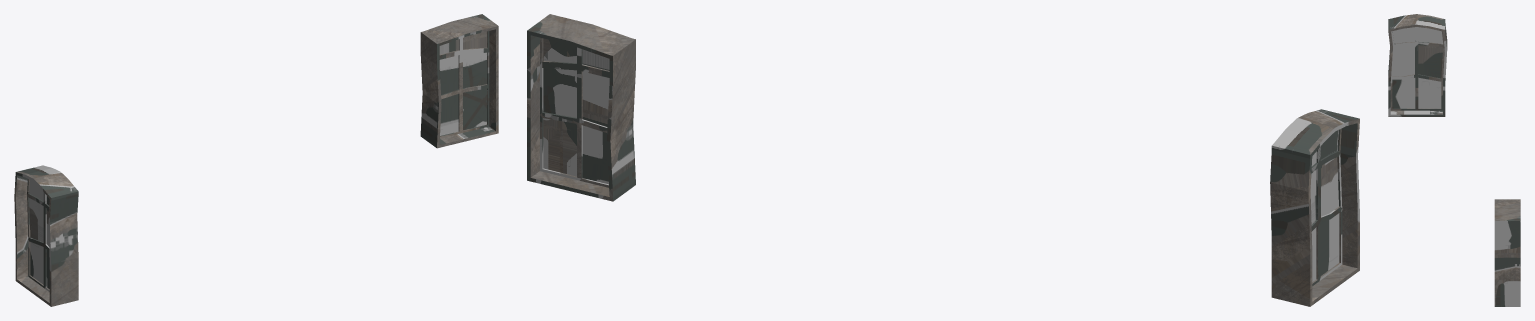
Rendered from Win.fbx.
3 renders of one model, left to right at view 1: azimuth 30°, elevation 25°; view 2: azimuth 150°, elevation 25°; view 3: azimuth 270°, elevation 25°, orthographic. The views are drawn at different scales.
Visible parts, largest first — view 1: Win2, Win1; view 2: Win2, Win1; view 3: Win1, Win2.
Boxes of the visible parts, bbox=[...] form: Win2: bbox=[420, 14, 498, 148]; Win1: bbox=[14, 165, 78, 306]; Win2: bbox=[527, 14, 635, 201]; Win1: bbox=[1270, 109, 1359, 306]; Win1: bbox=[1388, 14, 1447, 116]; Win2: bbox=[1494, 199, 1520, 306].
Size of the model in its own units: 1001 by 216 by 279.
